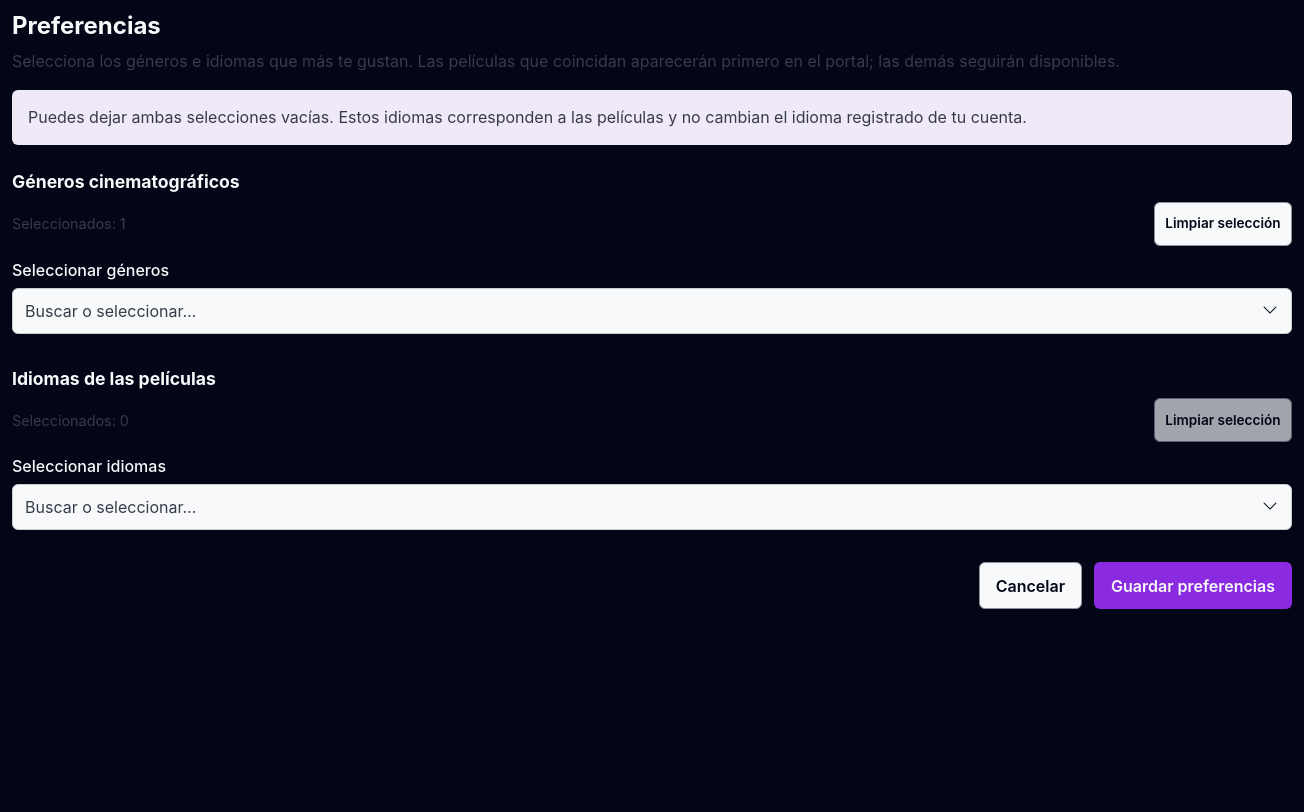
ClientPreferencesForm › rejects invalid initial IDs [99] and clears feedback when selection is cleared
This screenshot has width=1304, height=812.
Expected: the text "Una de las opciones ya no está disponible" is not shown
Submit the form
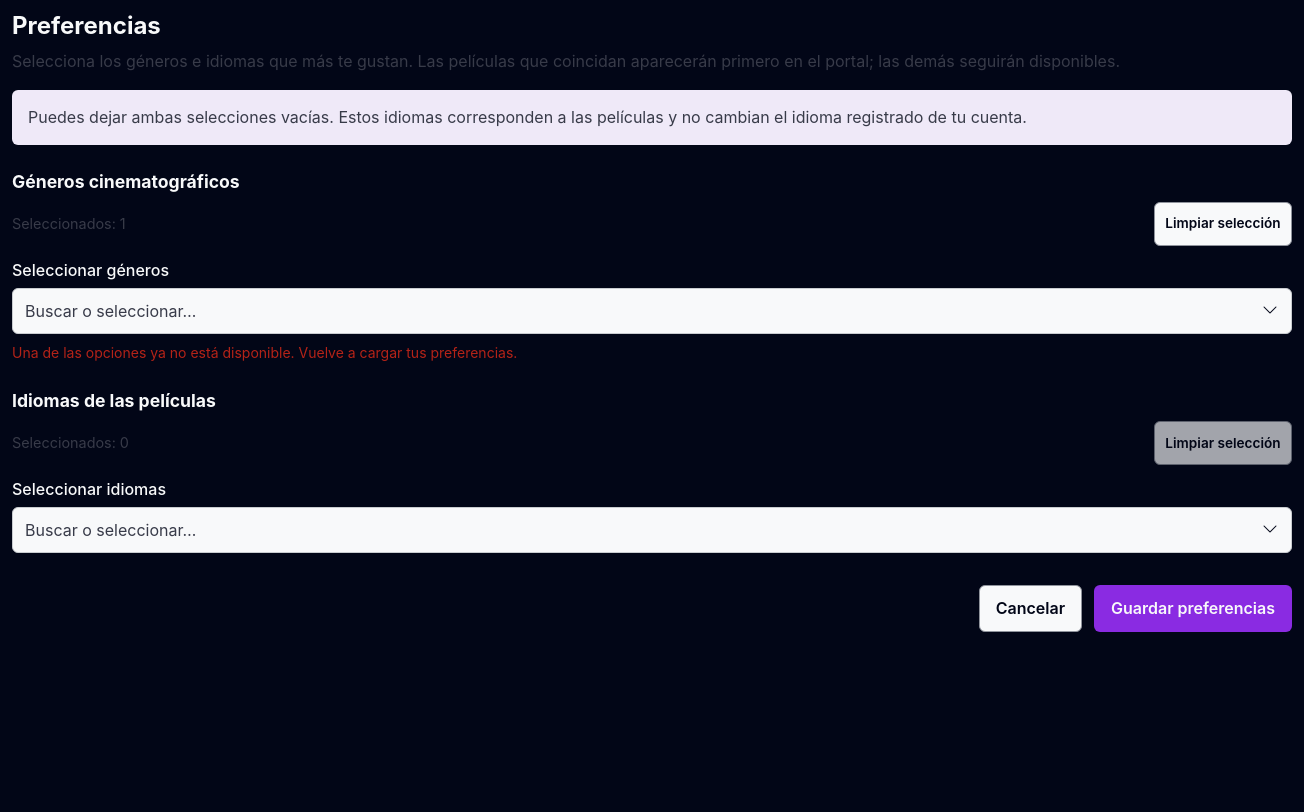
Result: the form shows "Una de las opciones ya no está disponible" at [12,344,517,360]
Click the button "Limpiar selección" in the row of "Seleccionados: 1".
click(1223, 224)  # box [1154,202,1292,246]
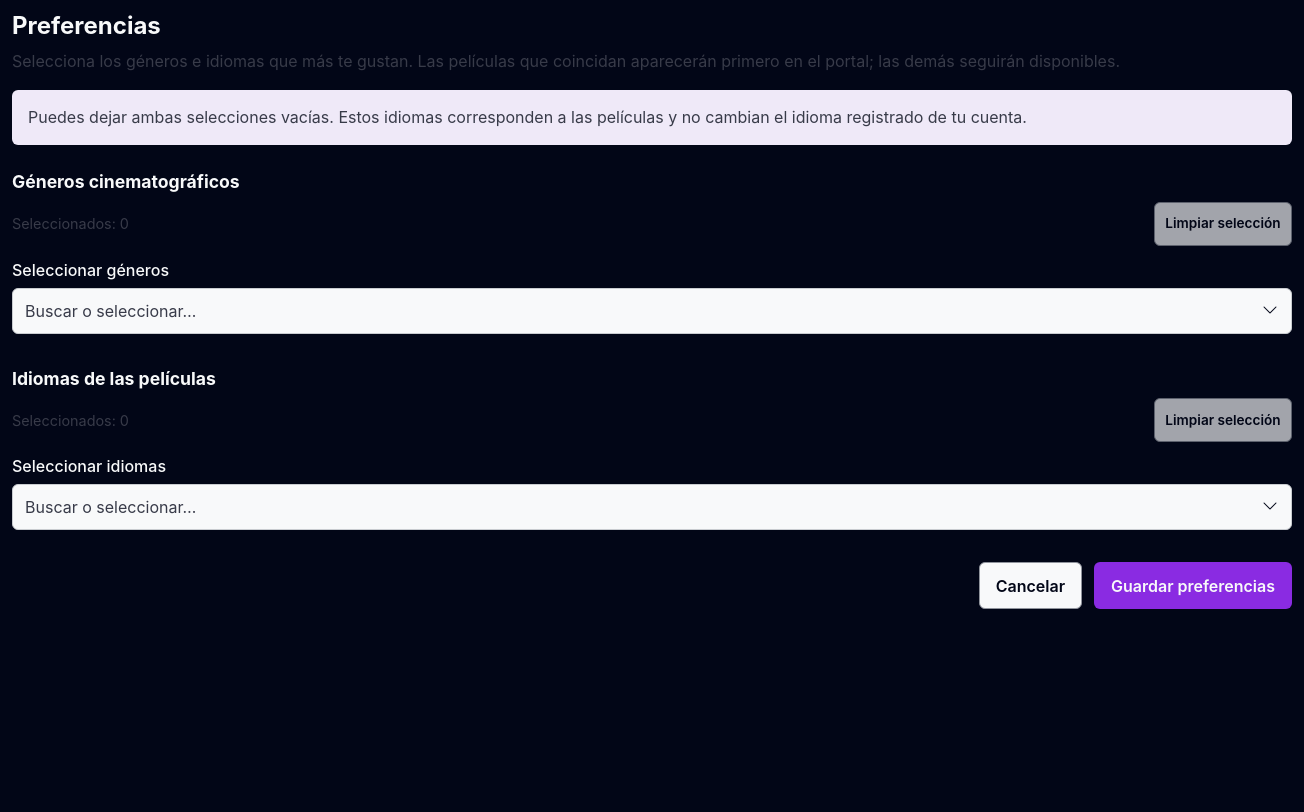
Result: the text "Una de las opciones ya no está disponible" is gone
